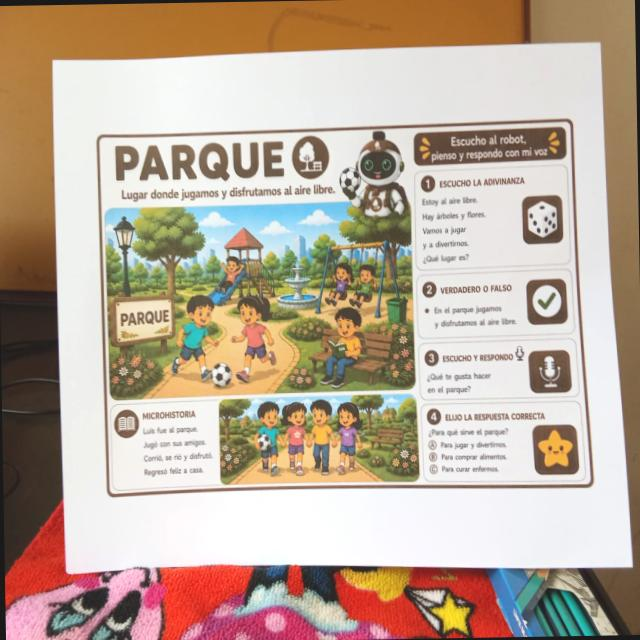parque: (91, 111, 598, 502)
